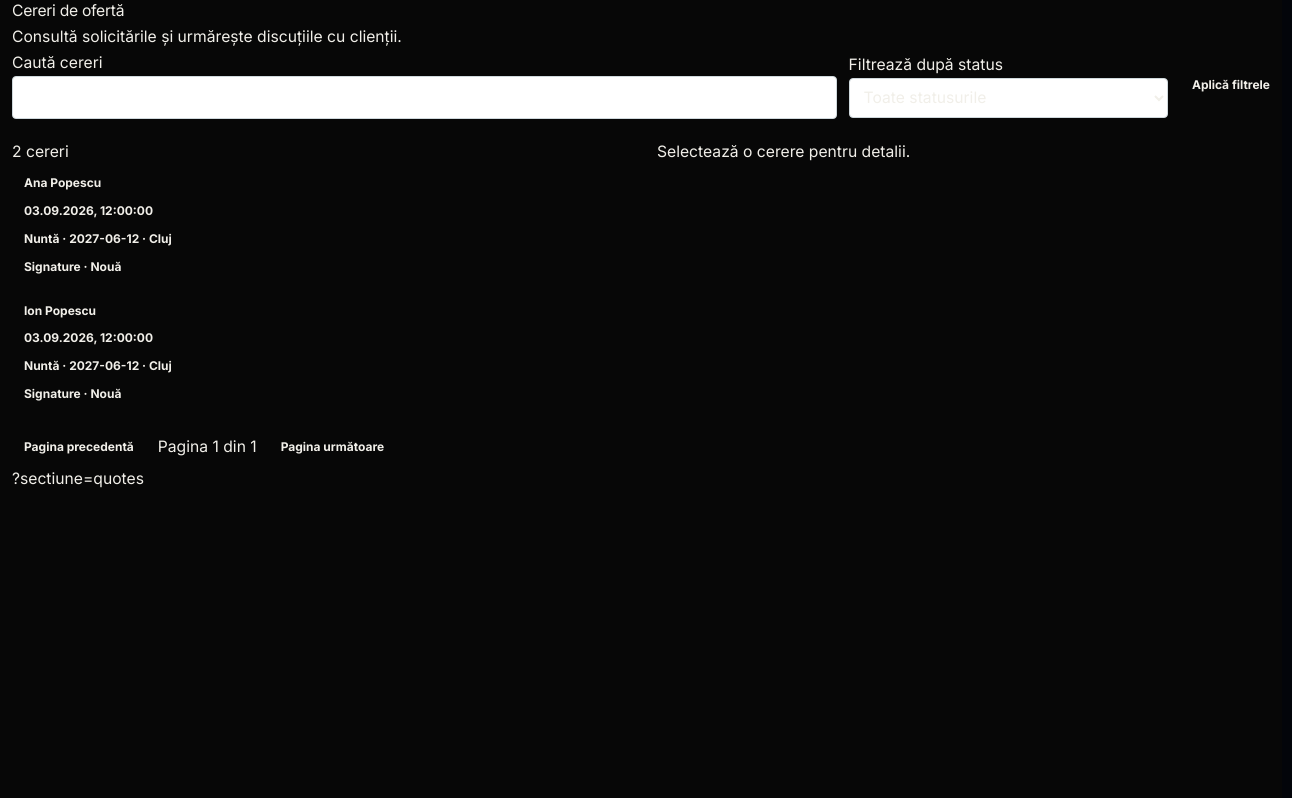
Test: a late detail response never replaces the newly selected customer
The width and height of the screenshot is (1292, 798).
Click the button with aria-label "Deschide cererea Ana Popescu". click: (63, 183)
box: [12,165,637,284]
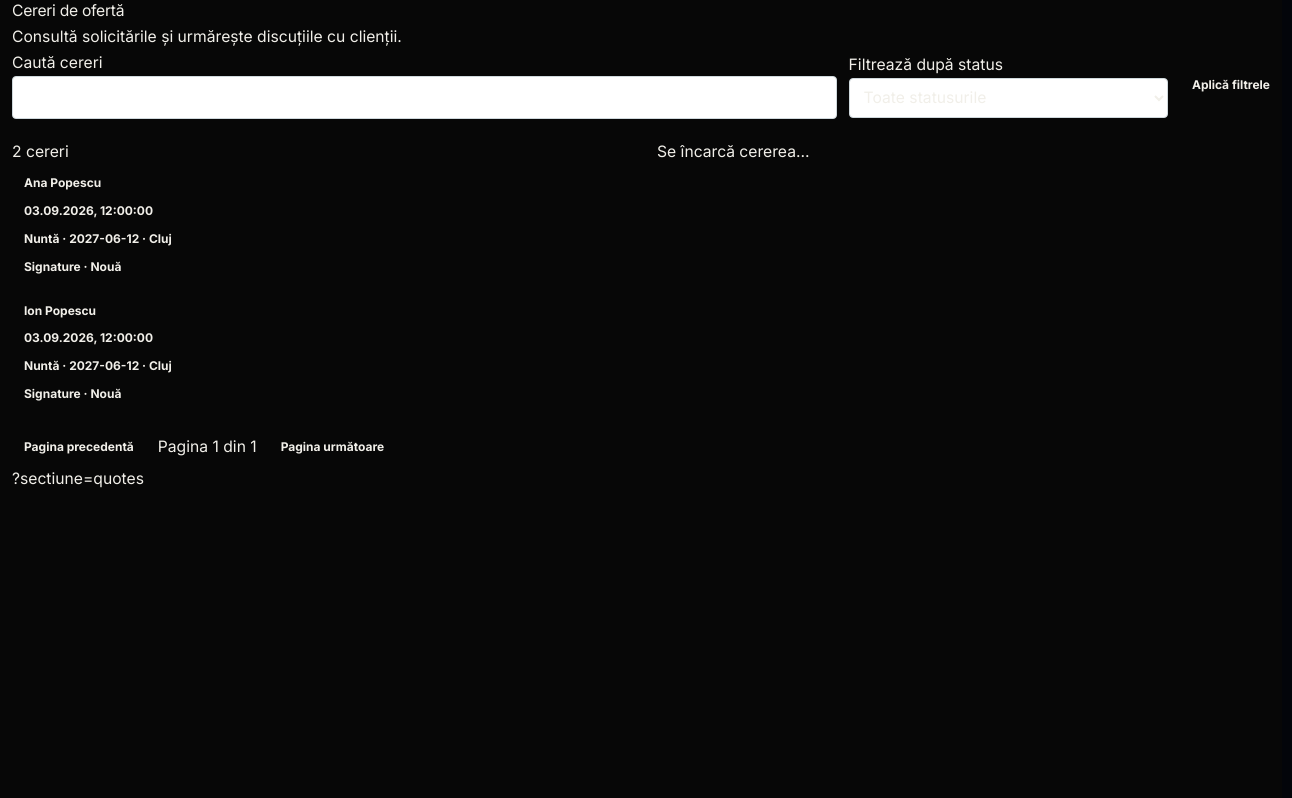
Click the button with aria-label "Deschide cererea Ion Popescu". click: (60, 310)
box: [12,292,637,412]
(page scrolled)
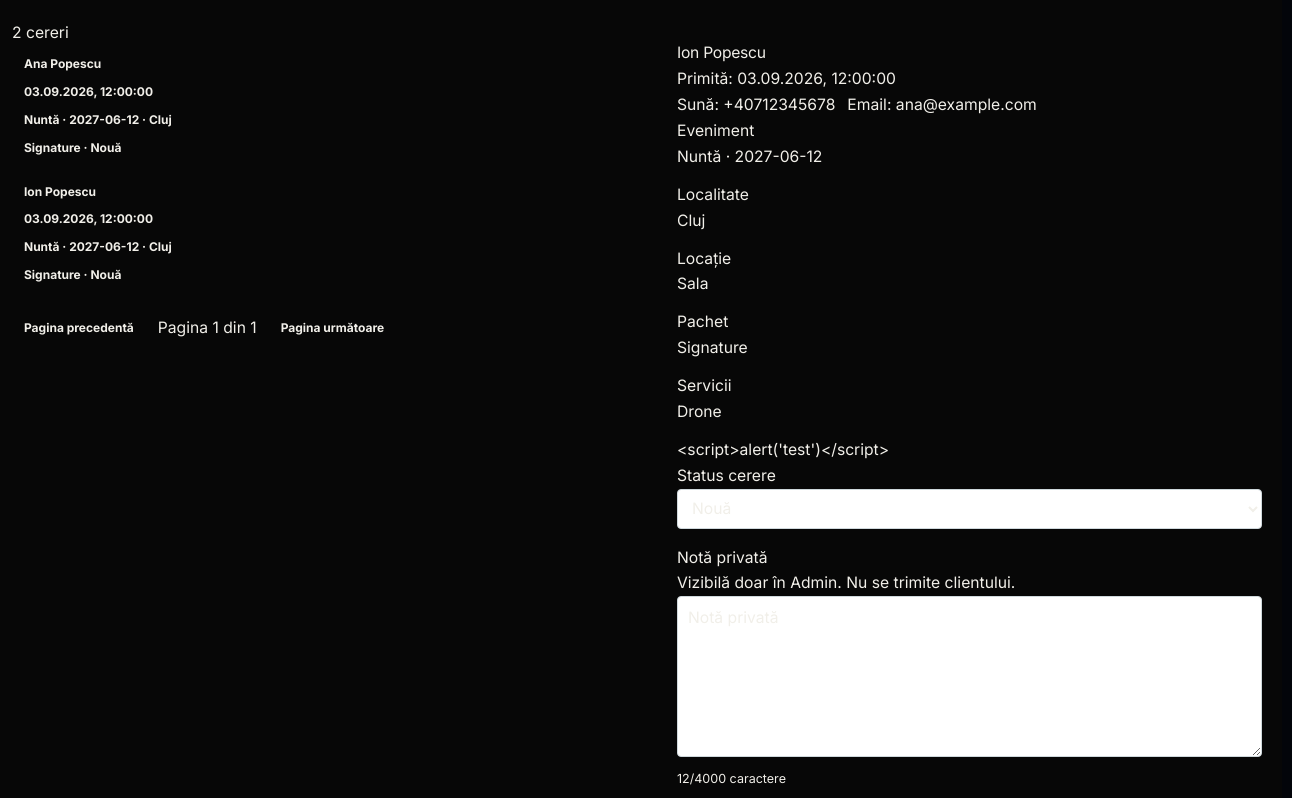
expect the form named "Editează cererea" shows "Ion Popescu": met, box [677,44,766,62]
